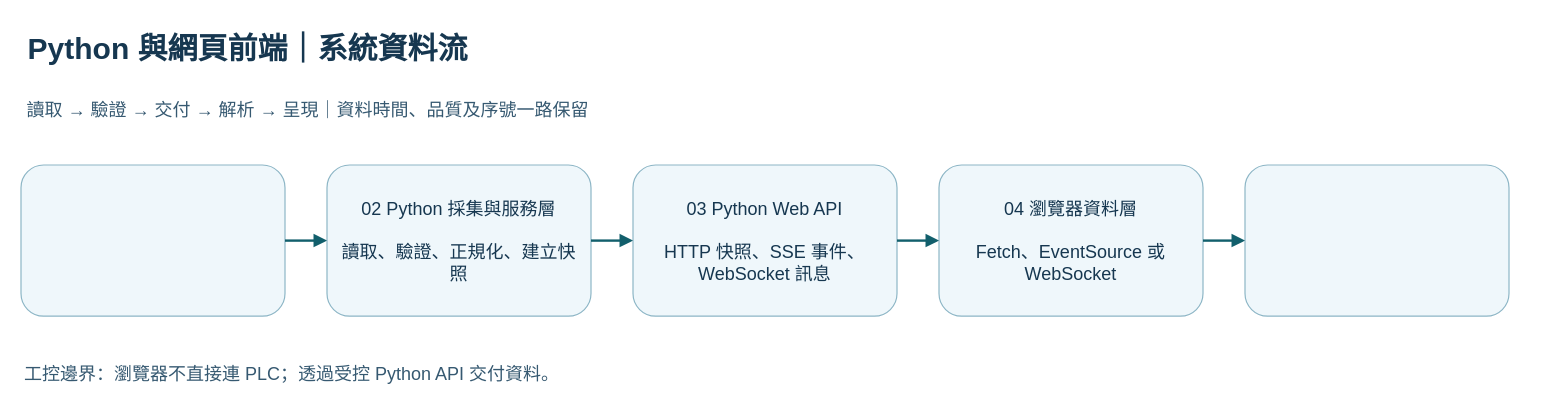
Image size: 1555x419. Some labels were removed from this diagram. The box of each missing label's shape, as (x1, y1, x2, y2) in pixels:
01 資料來源 PLC／感測器、資料庫或外部 API: (20, 164, 285, 316)
05 畫面與操作 狀態卡、趨勢圖、告警與操作介面: (1244, 164, 1509, 316)
